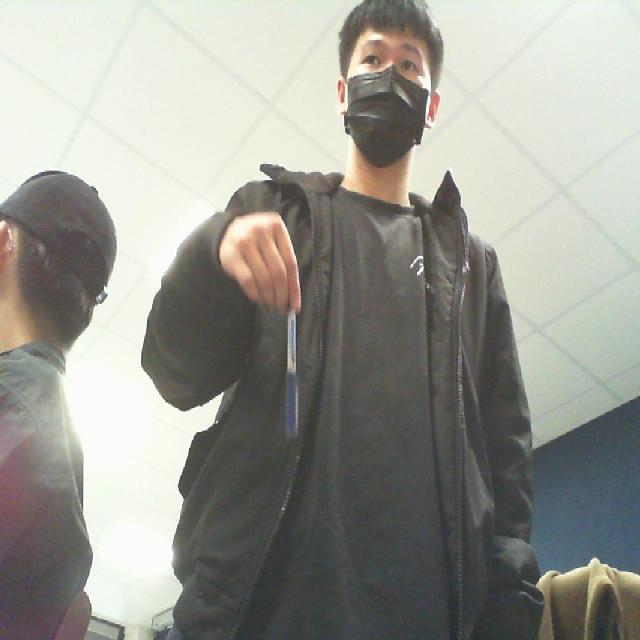Pen: (260, 301, 320, 478)
